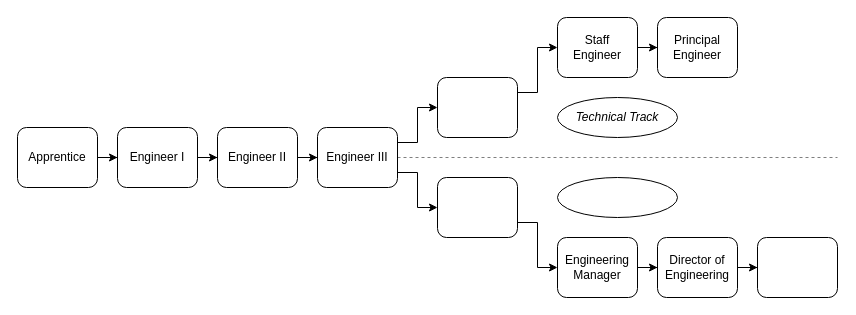
Some shapes in this 856 by 315 pixel diagram are drawn without their labels. Here are the shapes that lost their labels. From the top down, the centre of each, then its label:
At (x=477, y=107): "Senior Engineer".
At (x=477, y=207): "Team Lead".
At (x=617, y=197): "Leadership Track".
At (x=797, y=267): "VP of Engineering".
